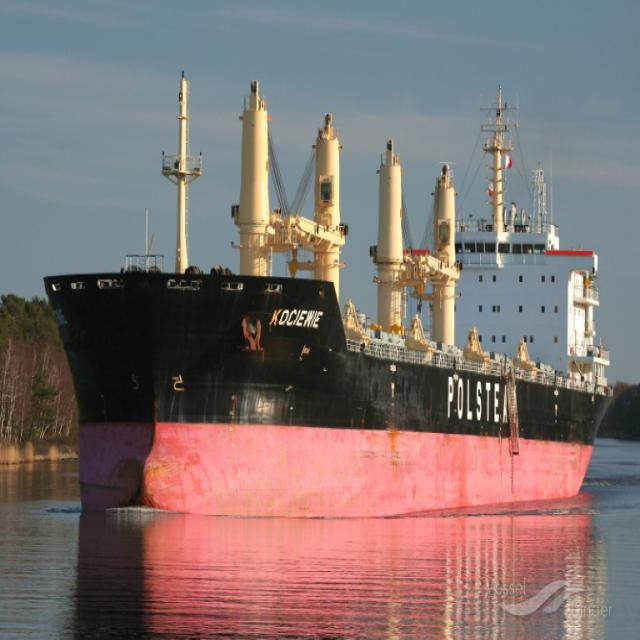OCR: (441, 366, 524, 445), (268, 299, 326, 342)
